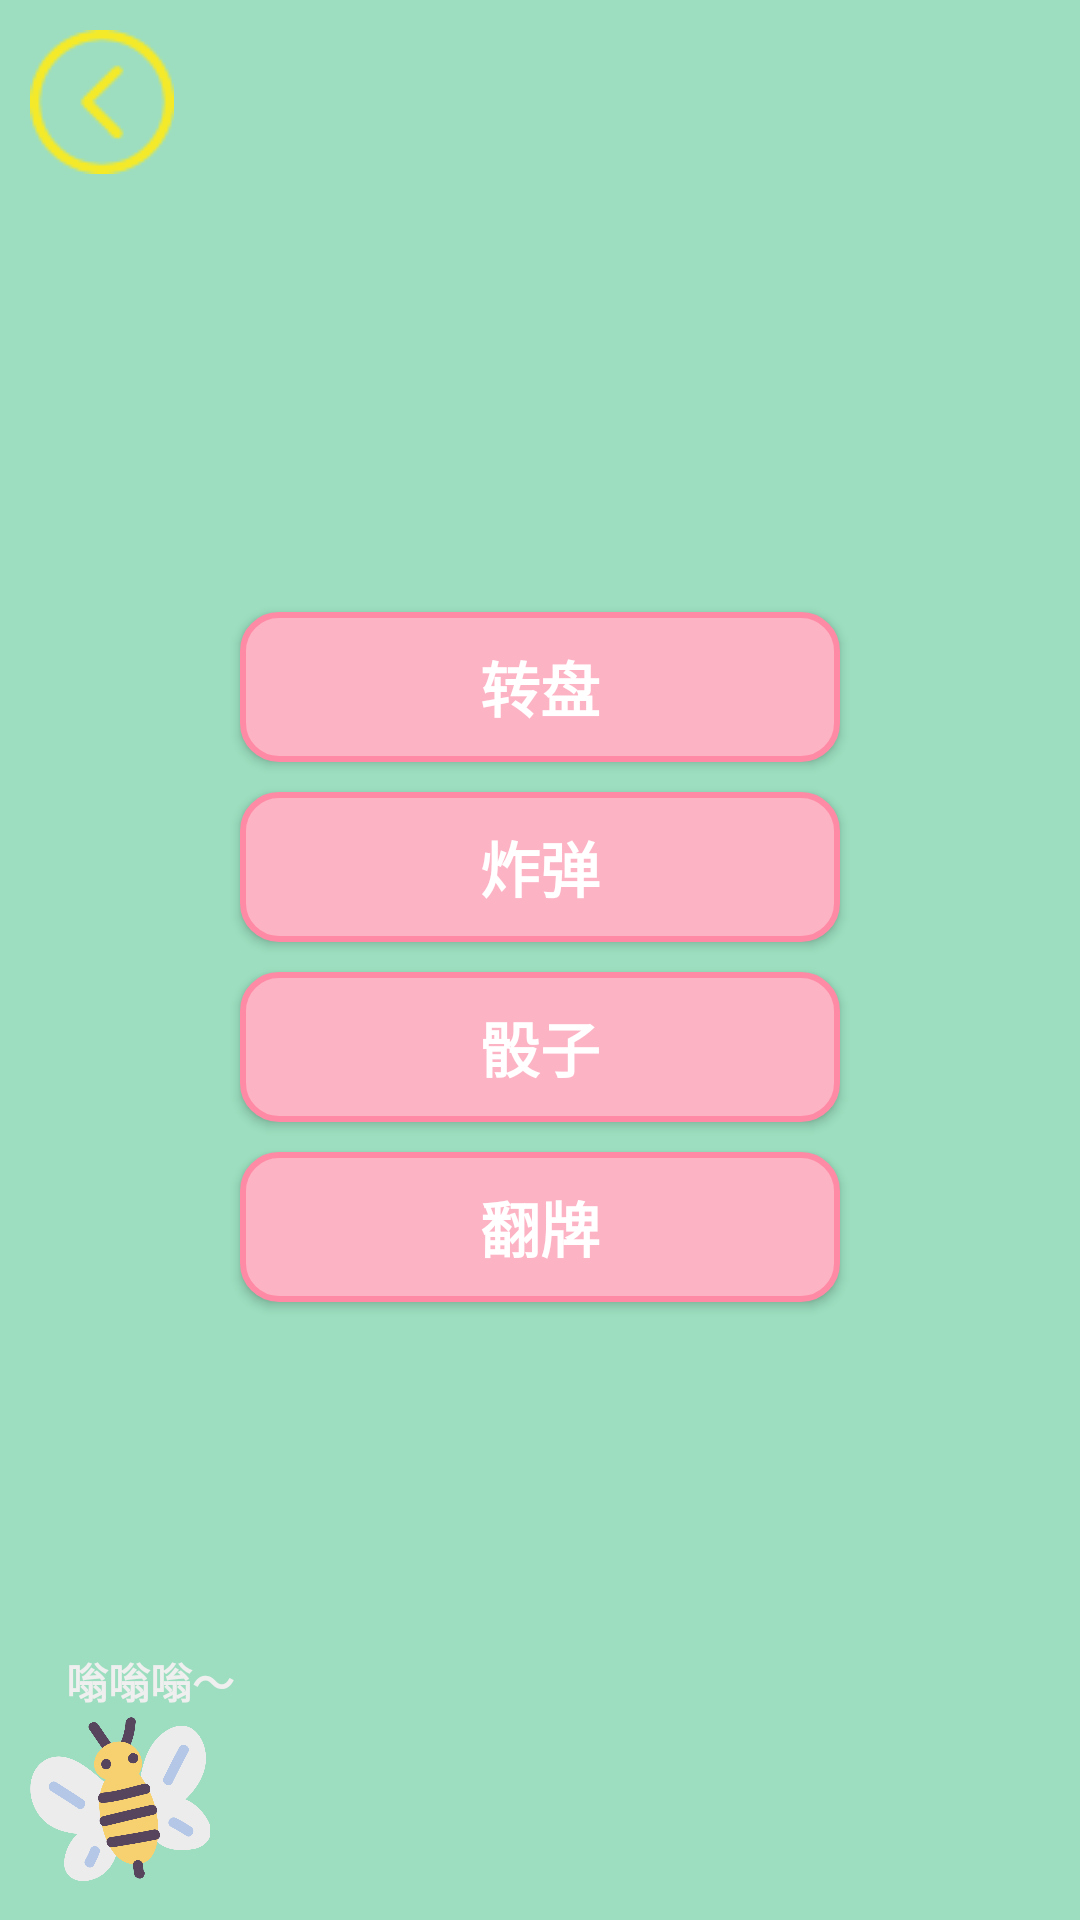

Icons on this 1080*1920 Android screen, each with its box as (x1, y1, x2, y2):
back: (30, 30, 174, 174)
mifeng: (30, 1717, 210, 1881)
